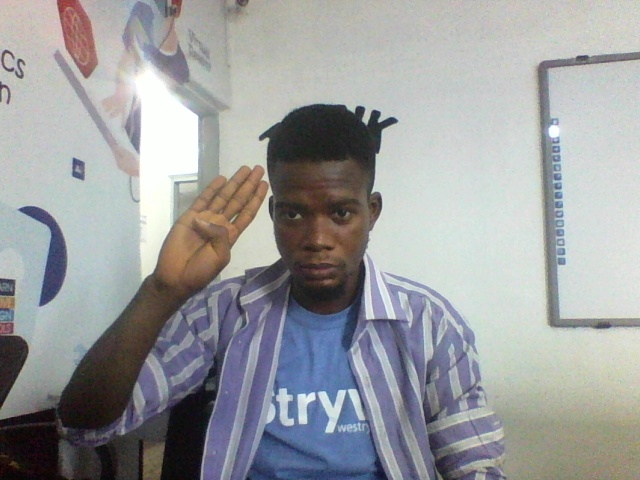hello: (145, 163, 270, 311)
